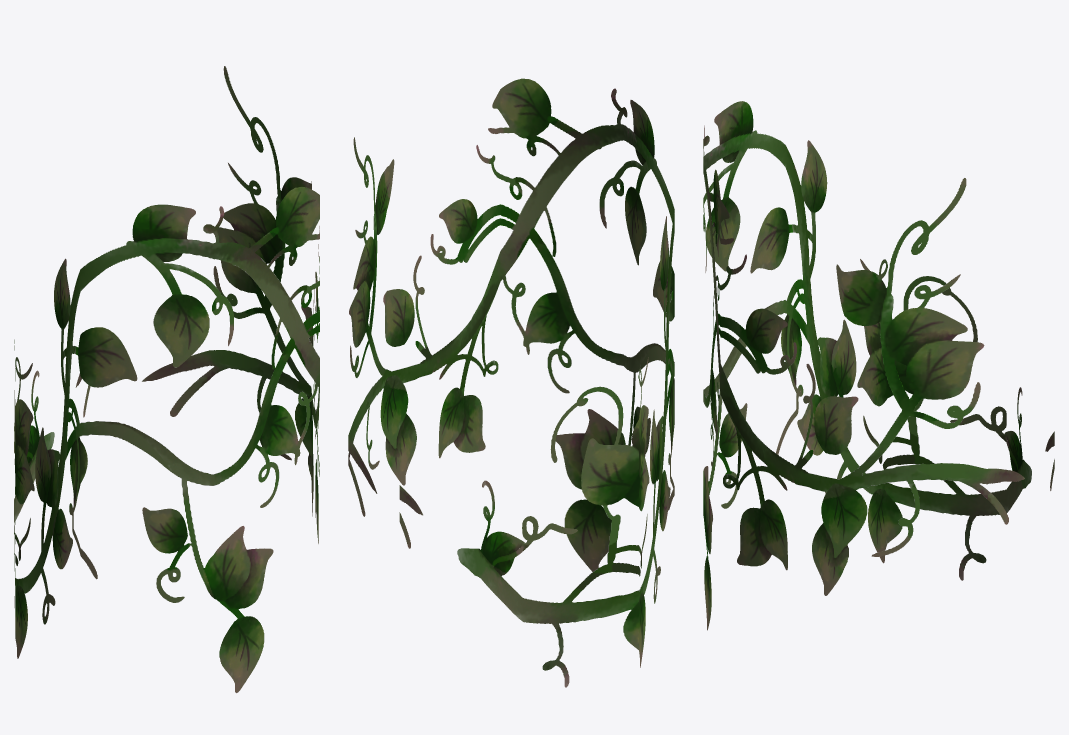
The model's file is BigVine.fbx.
The picture shows the model from 3 angles, left to right: view 1: azimuth 30°, elevation 25°; view 2: azimuth 150°, elevation 25°; view 3: azimuth 270°, elevation 25°; orthographic projection.
Parts seen in each view (by area): view 1: BigVine1; view 2: BigVine1; view 3: BigVine1.
Part boxes in pixels (box(x1,y1,x2,y2)): BigVine1: box(14, 66, 319, 693); BigVine1: box(348, 78, 674, 687); BigVine1: box(703, 101, 1054, 630).
Bounding box in the file's own units: 0.2684 × 0.5294 × 0.2947.
Materials: 1 (1 with a texture image).
